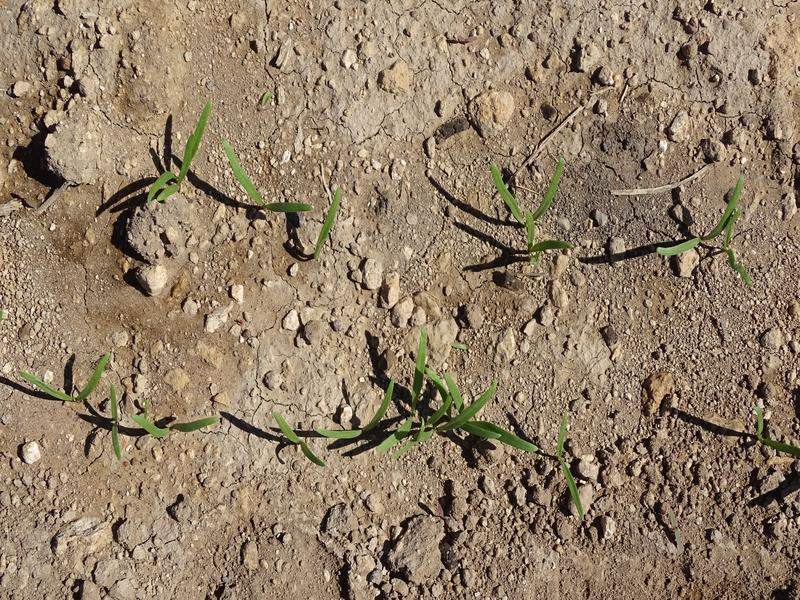Espinaca: (322, 344, 538, 458), (481, 157, 577, 252), (655, 172, 756, 258), (106, 387, 224, 458), (219, 137, 316, 216), (146, 99, 216, 204), (22, 352, 115, 404), (555, 414, 590, 523), (272, 412, 325, 470), (744, 403, 796, 454), (311, 189, 346, 258)
